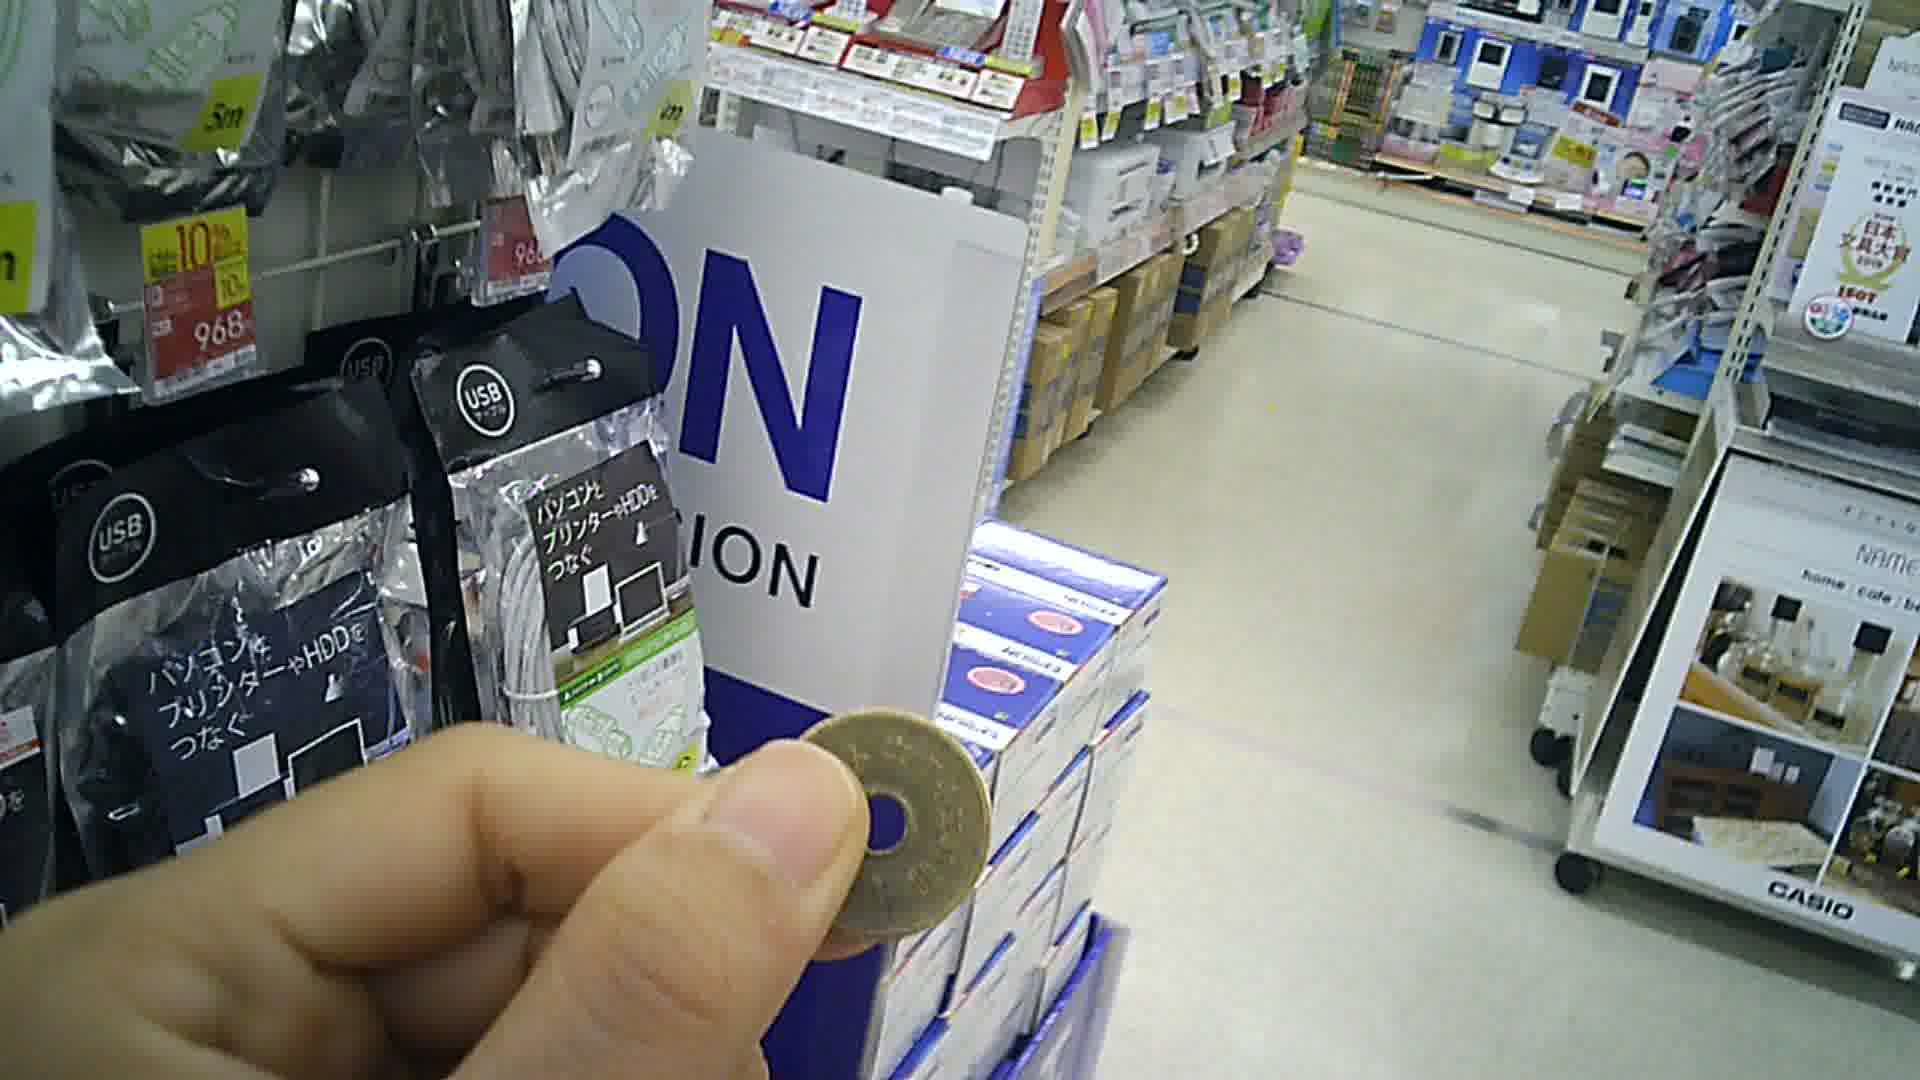5 Yen: (777, 702, 996, 936)
